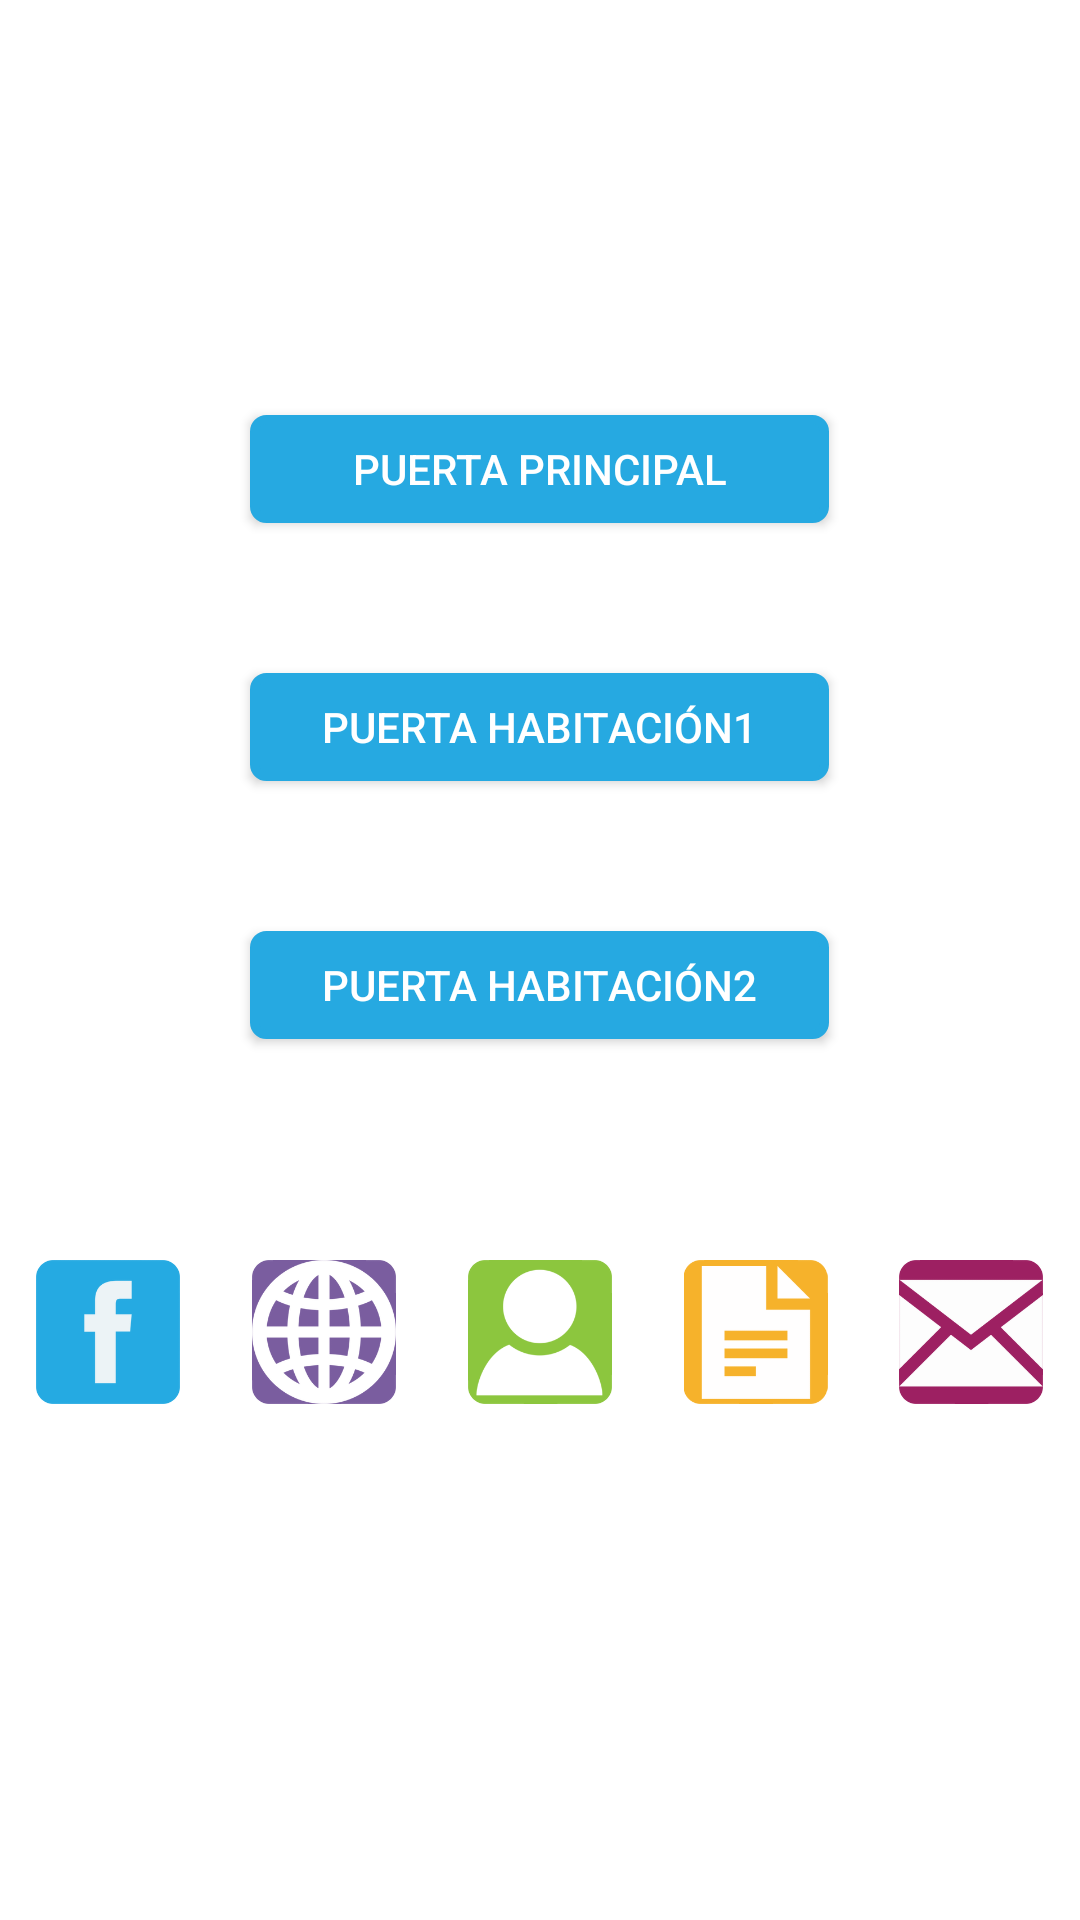

Locate icon controls on the screen. Image size 1080 × 1920, boxes as (x1, y1, x2, y2).
about: (468, 1260, 612, 1404)
mail: (899, 1260, 1043, 1404)
world: (252, 1260, 396, 1404)
